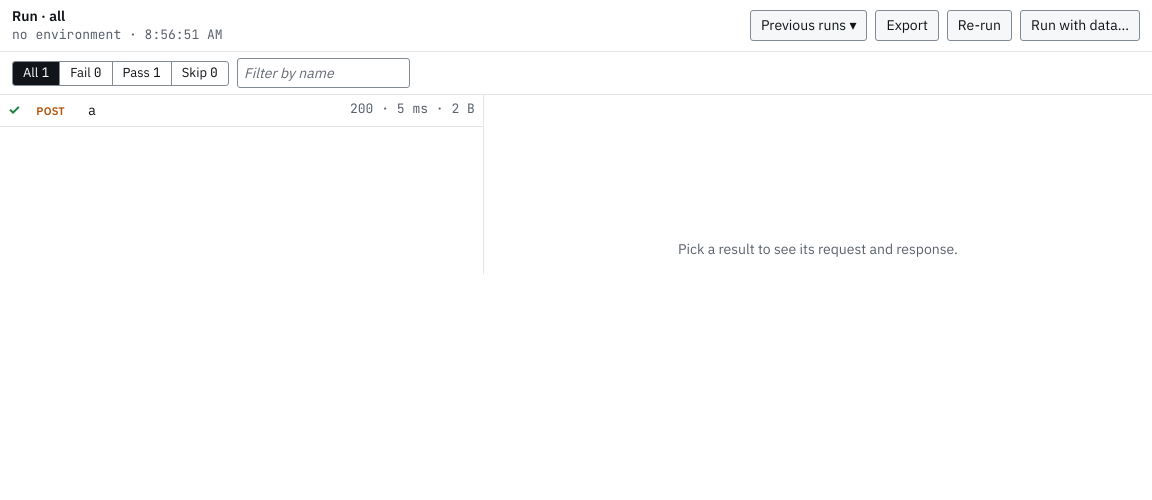
Scenario: run result detail and history › clicking a finished row opens the detail with five tabs, and the Request tab shows what was sent
Click the row: (241, 111) [0,95,483,126]
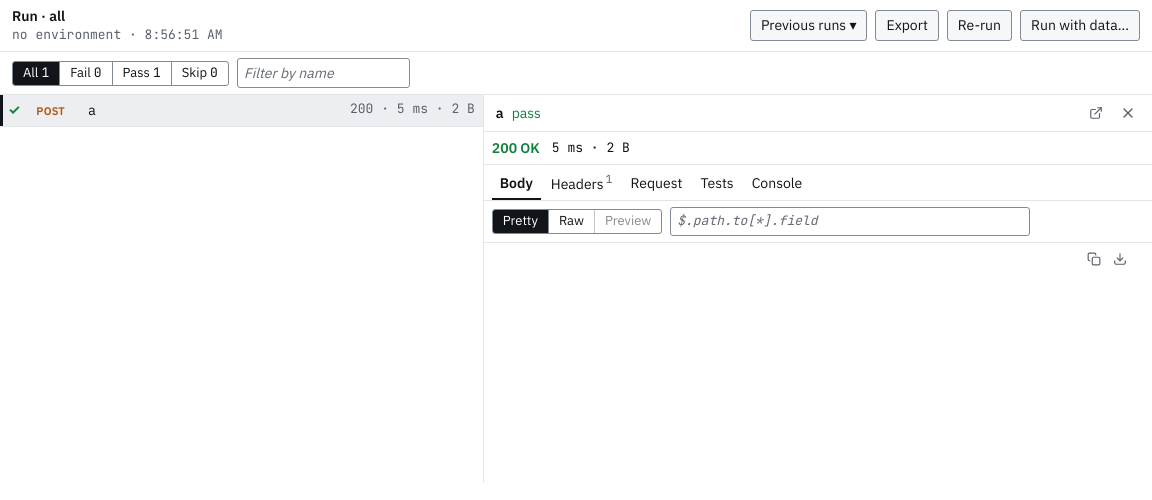
Click the tab with aria-label "Request as sent": (656, 183) [623,165,690,200]
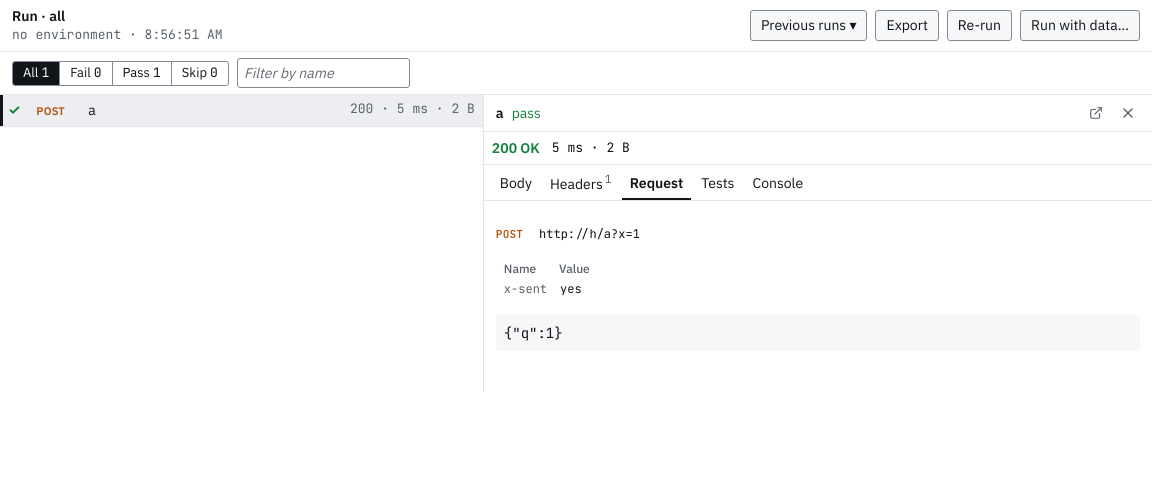
Now the text "http://h/a?x=1" is shown, box [539,226,640,242]
Now the column heading "x-sent" is shown, box [504,279,559,301]
Now the text "{\"q\":1}" is shown, box [496,315,1140,351]
